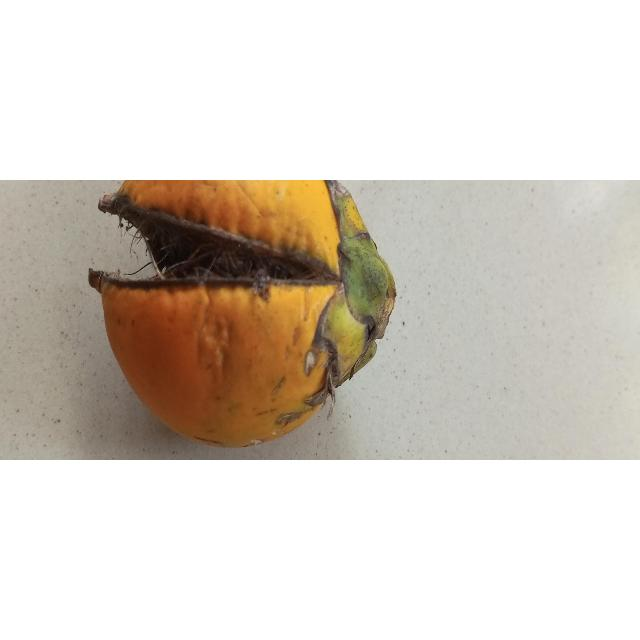damaged: (88, 180, 396, 447)
